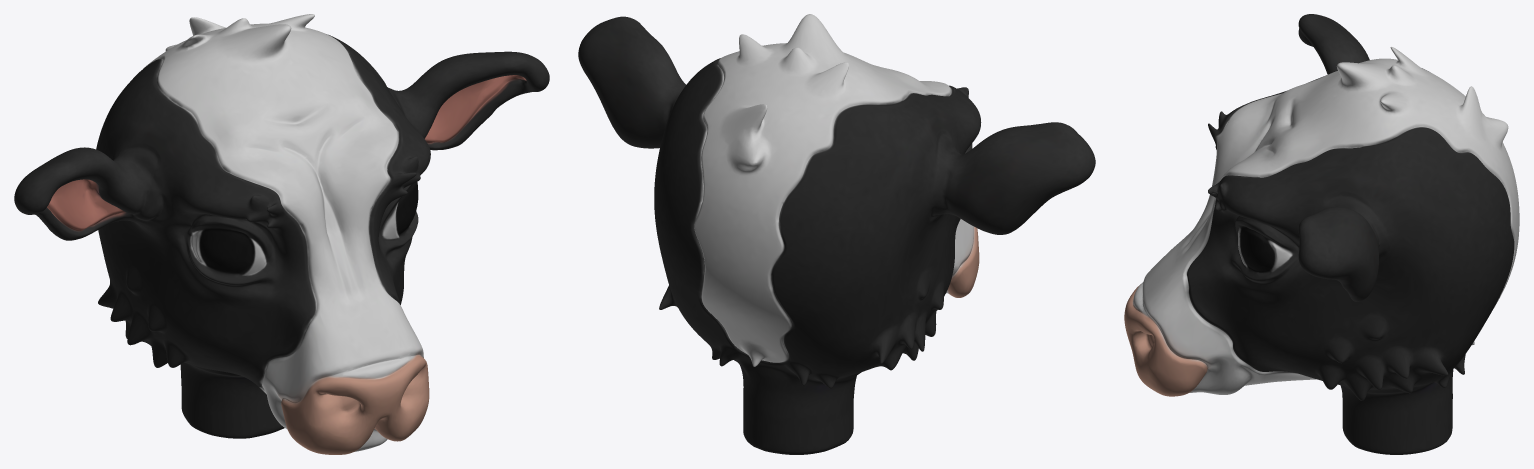
The model's file is Tete_Vache.glb.
3 renders of one model, left to right at view 1: azimuth 30°, elevation 25°; view 2: azimuth 150°, elevation 25°; view 3: azimuth 270°, elevation 25°, orthographic. The views are drawn at different scales.
Visible parts, largest first — view 1: Tete_Vache; view 2: Tete_Vache; view 3: Tete_Vache.
Boxes of the visible parts, x1,y1,x2,y2 form: Tete_Vache: (14,14,549,454); Tete_Vache: (578,14,1095,454); Tete_Vache: (1124,14,1519,454).
Size of the model in its own units: 6.1 by 4.52 by 4.26.
